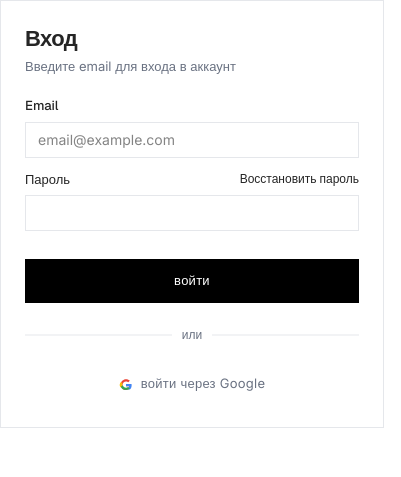
Test: logs in with password and displays rejected credentials
The image size is (401, 477).
In the field labelled "Email": (192, 140) x1=25 y1=122 x2=359 y2=158, type "client@example.org"
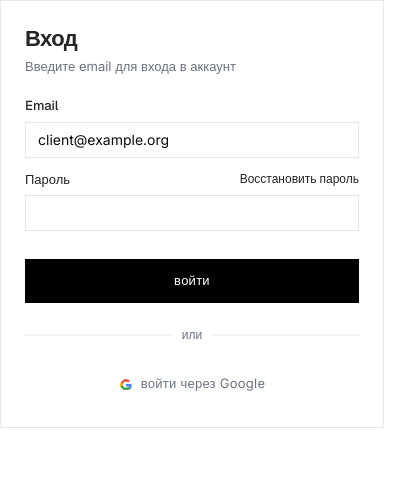
In the password field labelled "Пароль": (192, 213) x1=25 y1=195 x2=359 y2=231, type "password"
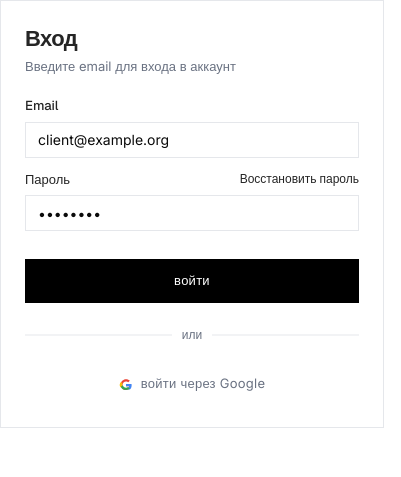
Submit the form, box x1=25 y1=96 x2=359 y2=403
Submit the form, box x1=25 y1=96 x2=359 y2=403
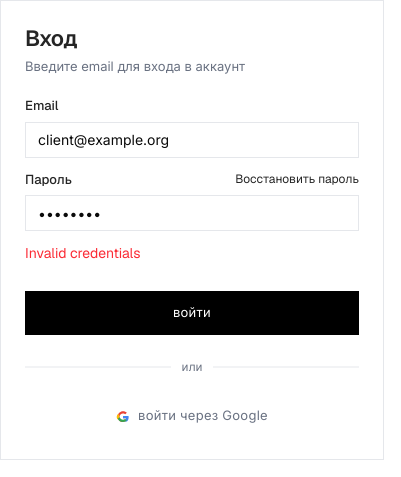
expect the text "Invalid credentials" is shown: met, box x1=25 y1=244 x2=140 y2=262
